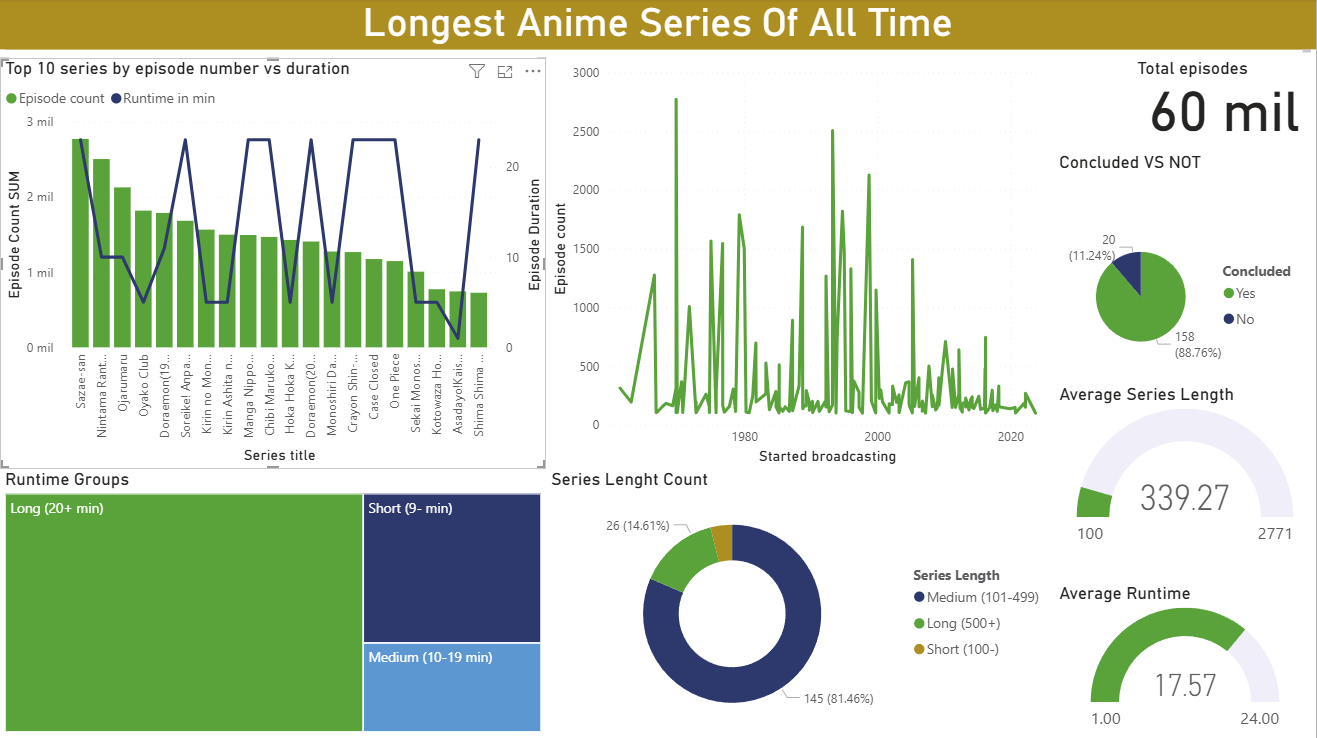

The page's visual inventory and layout, read from the dashboard file:
{"tool":"powerbi","page":{"name":"Página 1","canvas":[1280,720],"ordinal":0},"visuals":[{"type":"lineClusteredColumnComboChart","title":"Top 20 series by episode number vs duration","fields":{"Category":["Animes (2).Series title"],"Y":["Sum(Animes.Episode count)"],"Y2":["Sum(Animes.AVG min)"]},"box":[0,57.4,531.1,399.8],"z":0},{"type":"lineChart","fields":{"Y":["Sum(Animes.Episode count)"],"Category":["Animes.Started broadcasting"]},"box":[531.1,57.4,494.1,399.8],"z":1000},{"type":"card","title":"Total episodes","fields":{"Values":["Sum(Animes.Episode count)"]},"box":[1101,57.4,179,92.4],"z":2000},{"type":"textbox","title":"Longest Anime Series Of All Time","box":[0,0,1280,57.4],"z":3000},{"type":"pieChart","title":"Concluded VS NOT","fields":{"Y":["CountNonNull(Animes.Series title)"],"Category":["Animes.Concluded"]},"box":[1025.2,148.8,254.8,262.6],"z":4000},{"type":"treemap","title":"Runtime Groups","fields":{"Group":["Animes.Duration Groups"],"Values":["CountNonNull(Animes.Series title)"]},"box":[0,457.1,531.1,260.7],"z":5000},{"type":"gauge","title":"Average Runtime","fields":{"MinValue":["Min(Animes.AVG min)"],"MaxValue":["Max(Animes.AVG min)1"],"Y":["Avg(Animes.AVG min)2"]},"box":[1025.2,568,254.8,151.7],"z":6000},{"type":"gauge","title":"Average Series Length","fields":{"MinValue":["Min(Animes.Episode count)"],"MaxValue":["Max(Animes.Episode count)1"],"Y":["Avg(Animes.Episode count)2"]},"box":[1025.2,374.5,254.8,165.3],"z":7000},{"type":"donutChart","title":"Series Lenght Count","fields":{"Category":["Animes.Series Length"],"Y":["CountNonNull(Animes.Series Length)"]},"box":[531.1,457.1,494.1,262.6],"z":8000}]}

Visuals, with their boxes in screenshot pixels (x1, y1, x2, y2), scaled from the page's 1280x720 canvas onto the 1317x738 screenshot:
"Top 20 series by episode number vs duration" lineClusteredColumnComboChart: pyautogui.locateOnScreen(0, 59, 546, 469)
lineChart - Sum(Animes.Episode count) x Animes.Started broadcasting: pyautogui.locateOnScreen(546, 59, 1055, 469)
"Total episodes" card: pyautogui.locateOnScreen(1133, 59, 1316, 154)
"Longest Anime Series Of All Time" textbox: pyautogui.locateOnScreen(0, 0, 1316, 59)
"Concluded VS NOT" pieChart: pyautogui.locateOnScreen(1055, 153, 1316, 422)
"Runtime Groups" treemap: pyautogui.locateOnScreen(0, 469, 546, 736)
"Average Runtime" gauge: pyautogui.locateOnScreen(1055, 582, 1316, 737)
"Average Series Length" gauge: pyautogui.locateOnScreen(1055, 384, 1316, 553)
"Series Lenght Count" donutChart: pyautogui.locateOnScreen(546, 469, 1055, 737)
